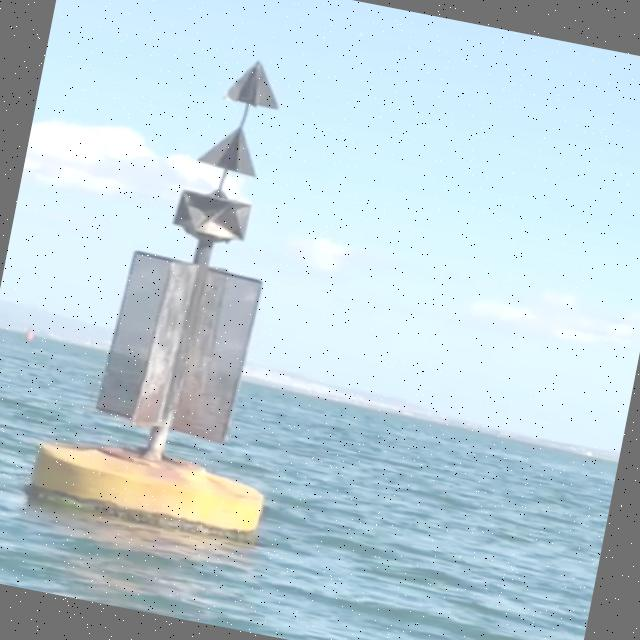marque: (17, 34, 341, 554)
